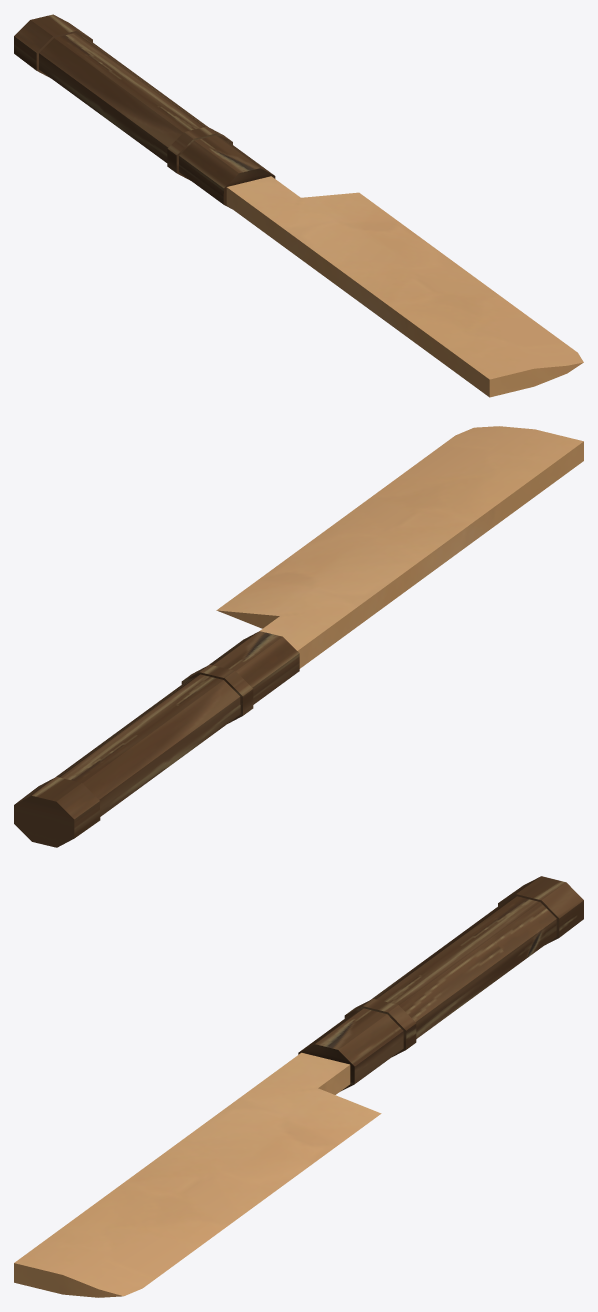
The model's file is SM_knife.fbx.
The picture shows the model from 3 angles, top to bottom: view 1: azimuth 30°, elevation 25°; view 2: azimuth 150°, elevation 25°; view 3: azimuth 330°, elevation 25°; orthographic projection. The views are drawn at different scales.
Parts seen in each view (by area): view 1: SM_Knife; view 2: SM_Knife; view 3: SM_Knife.
Part boxes in pixels (x1=…): SM_Knife: x1=14, y1=14, x2=583, y2=397; SM_Knife: x1=14, y1=426, x2=583, y2=847; SM_Knife: x1=14, y1=876, x2=583, y2=1297.
Size of the model in its own units: 2.79 by 1.06 by 21.
